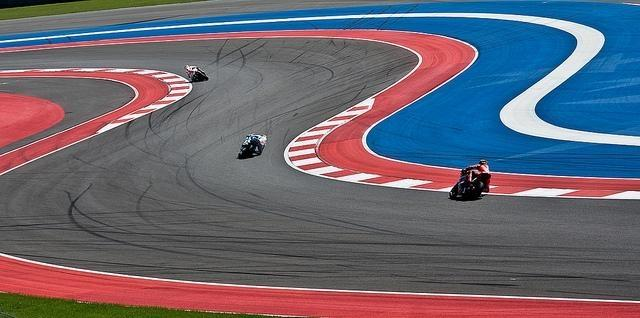motorcycle: (449, 169, 492, 200), (238, 132, 260, 158), (190, 68, 208, 82)
